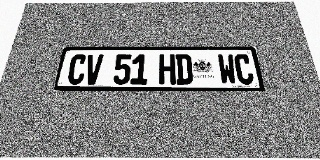1: (130, 54, 148, 84)
5: (113, 54, 132, 84)
C: (233, 54, 255, 84), (66, 55, 87, 84)
D: (175, 54, 193, 84)
H: (159, 54, 176, 84)
V: (83, 54, 103, 84)
W: (217, 54, 237, 84)
